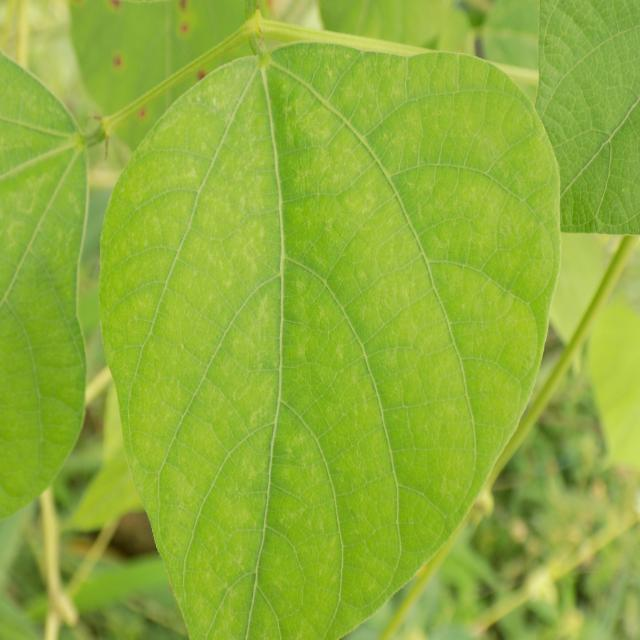Dolicos bean_healthy: (99, 41, 562, 640)
